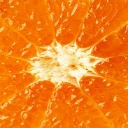orange: (1, 1, 128, 128)
